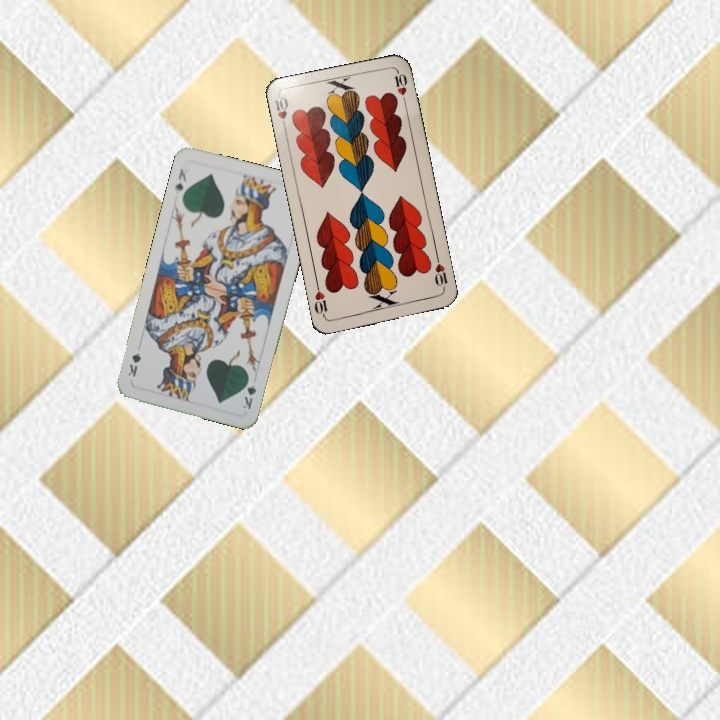GK: (238, 372, 259, 412), (171, 165, 189, 193)
H10: (270, 93, 291, 133), (430, 253, 451, 293)
